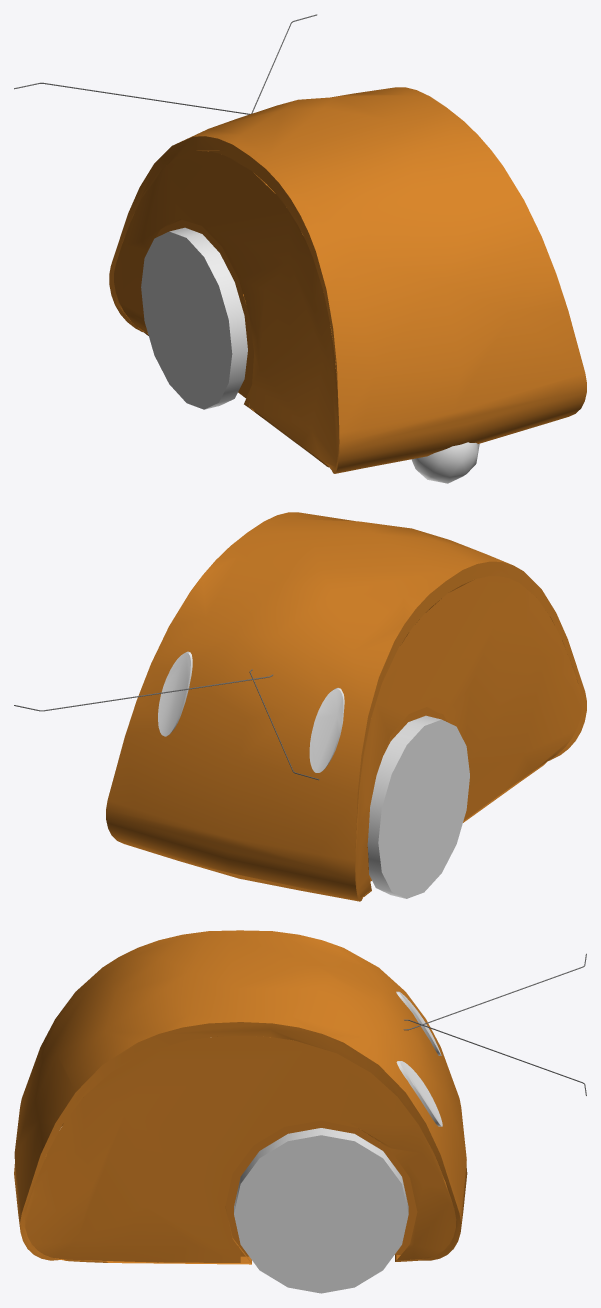
The model's file is car1_orange.gltf.
The picture shows the model from 3 angles, top to bottom: view 1: azimuth 30°, elevation 25°; view 2: azimuth 150°, elevation 25°; view 3: azimuth 270°, elevation 25°; orthographic projection. The views are drawn at different scales.
Visible parts, largest first — view 1: Cylinder.009_3, Cylinder.009; view 2: Cylinder.009_3, Cylinder.009; view 3: Cylinder.009_3, Cylinder.009.
Part boxes in pixels (x1=…): Cylinder.009_3: x1=109, y1=87, x2=586, y2=483; Cylinder.009: x1=14, y1=14, x2=317, y2=114; Cylinder.009_3: x1=106, y1=512, x2=586, y2=901; Cylinder.009: x1=14, y1=669, x2=319, y2=780; Cylinder.009_3: x1=14, y1=930, x2=467, y2=1293; Cylinder.009: x1=403, y1=953, x2=586, y2=1095.
Size of the model in its own units: 0.1217 by 0.1085 by 0.2082.
